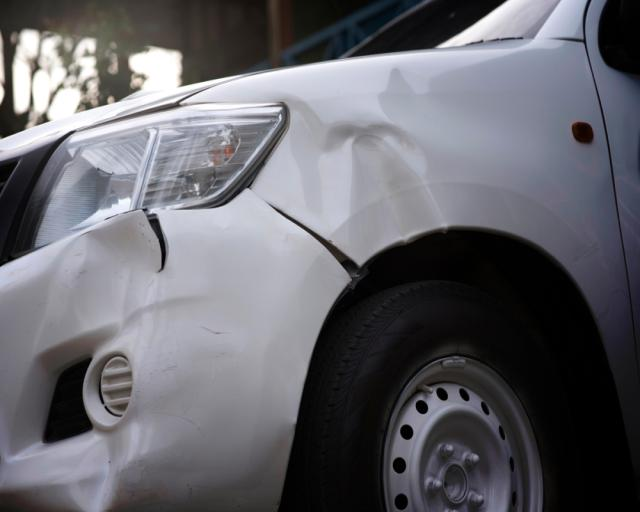crack: (147, 213, 168, 272)
dent: (254, 93, 444, 260), (79, 217, 163, 345), (69, 426, 129, 501)
